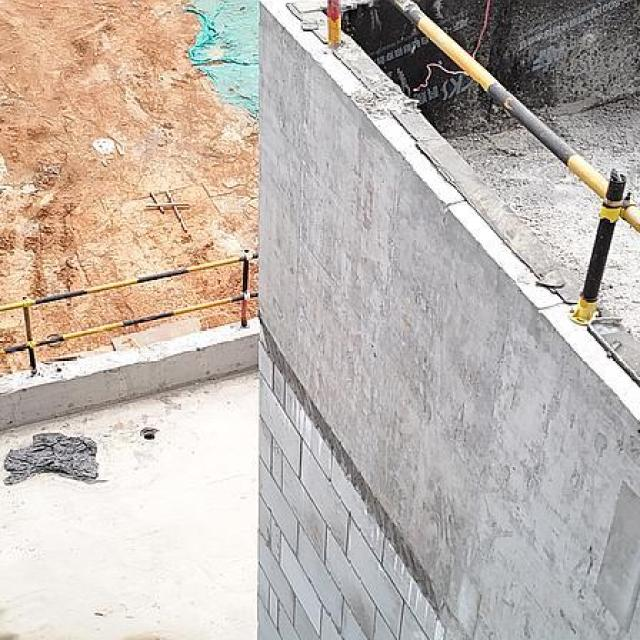Guardrail: (387, 0, 640, 327), (0, 247, 263, 377), (328, 0, 341, 47)
